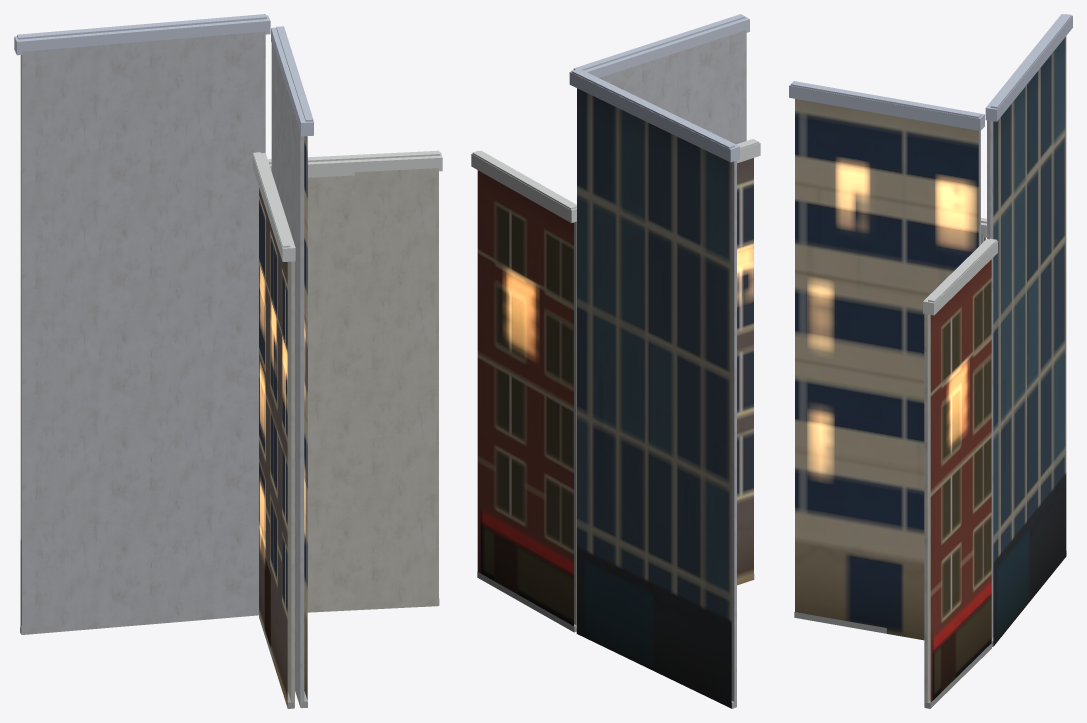
3 renders of one model, left to right at view 1: azimuth 30°, elevation 25°; view 2: azimuth 150°, elevation 25°; view 3: azimuth 270°, elevation 25°, orthographic. The views are drawn at different scales.
Parts seen in each view (by area): view 1: bldg_6006408686_facade0, bldg_6006381816_facade1, bldg_6006381816_facade0, bldg_6006408686_facade1; view 2: bldg_6006408686_facade0, bldg_6006381816_facade1, bldg_6006408686_facade1, bldg_6006381816_facade0; view 3: bldg_6006408686_facade1, bldg_6006408686_facade0, bldg_6006381816_facade1.
Part boxes in pixels (x1,y1,x2,y2): bldg_6006408686_facade0: [14, 14, 270, 634]; bldg_6006381816_facade1: [268, 150, 442, 612]; bldg_6006381816_facade0: [252, 152, 295, 708]; bldg_6006408686_facade1: [271, 26, 313, 708]; bldg_6006408686_facade0: [569, 68, 739, 708]; bldg_6006381816_facade1: [471, 150, 576, 632]; bldg_6006408686_facade1: [571, 14, 749, 144]; bldg_6006381816_facade0: [736, 139, 760, 585]; bldg_6006408686_facade1: [789, 81, 984, 640]; bldg_6006408686_facade0: [985, 14, 1072, 646]; bldg_6006381816_facade1: [923, 238, 997, 708].
Size of the model in its own units: 10.53 by 16.92 by 8.04.
Materials: 7 (3 with a texture image).
